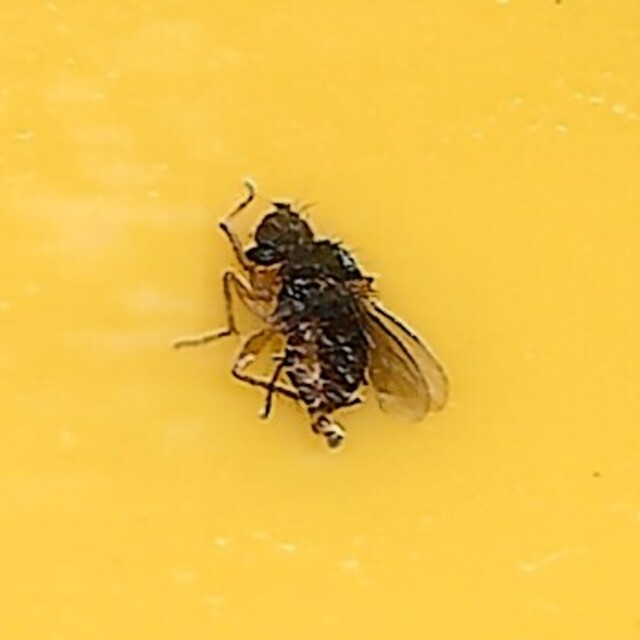Brachycera: (183, 177, 457, 463)
